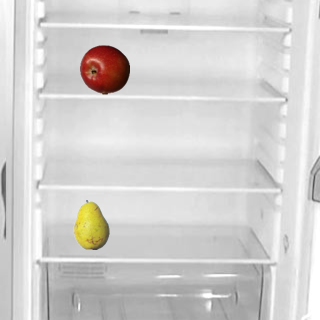Apple Braeburn: (79, 44, 129, 94)
Pear Monster: (66, 199, 116, 249)
